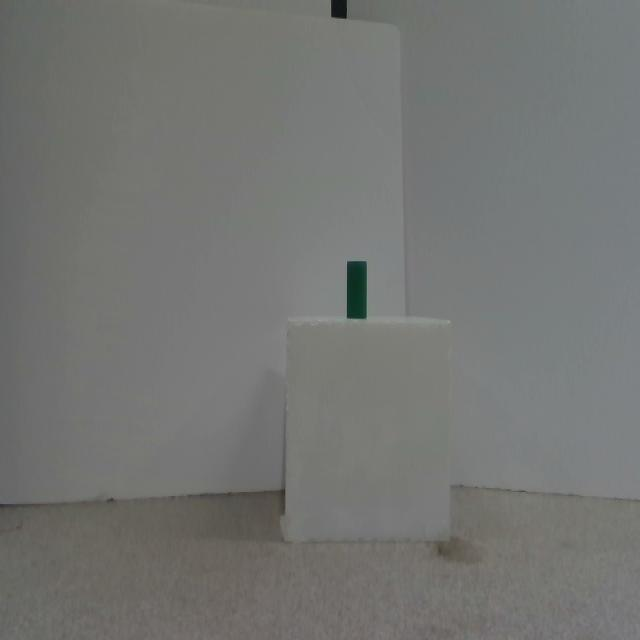green_cylinder: (347, 261, 367, 319)
